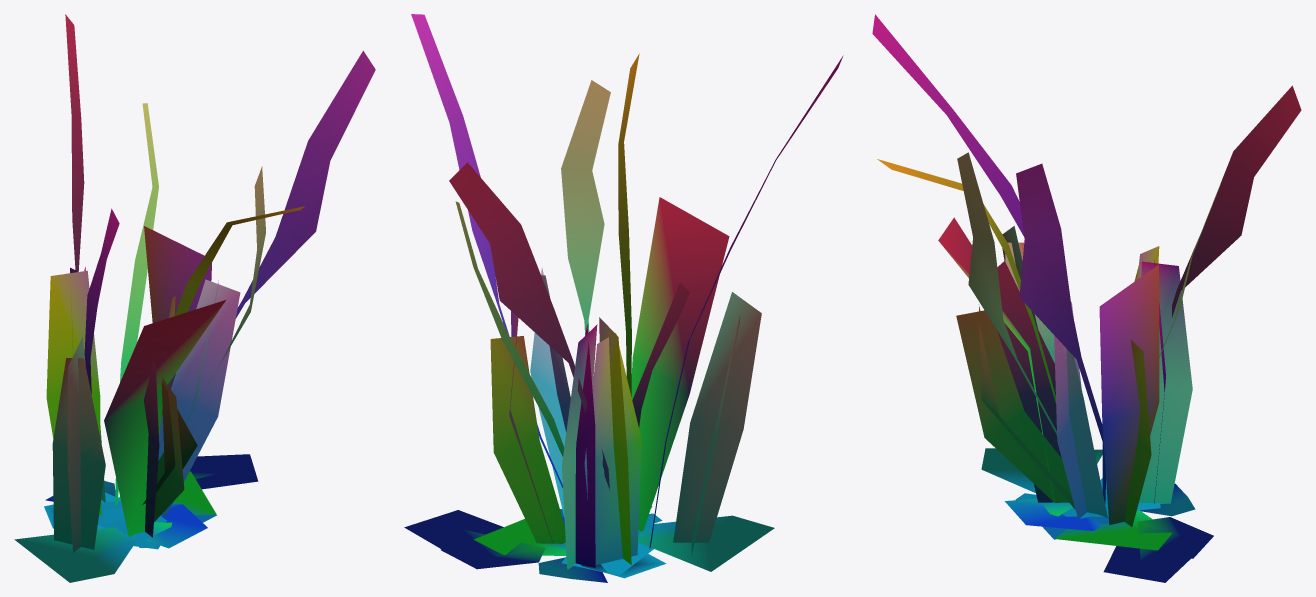
Rendered from uddmcgbia_VarI_LOD1.fbx.
3 views of the same model, side by side, from view 1: azimuth 30°, elevation 25°; view 2: azimuth 150°, elevation 25°; view 3: azimuth 270°, elevation 25° (orthographic). The views are drawn at different scales.
Visible parts, largest first — view 1: _ced9_VarI_LOD2; view 2: _ced9_VarI_LOD2; view 3: _ced9_VarI_LOD2.
Part boxes in pixels (bbox=[...]): _ced9_VarI_LOD2: bbox=[14, 14, 375, 582]; _ced9_VarI_LOD2: bbox=[404, 14, 843, 582]; _ced9_VarI_LOD2: bbox=[872, 14, 1301, 582].
Bounding box in the file's own units: 24.38 × 31.24 × 26.5.
